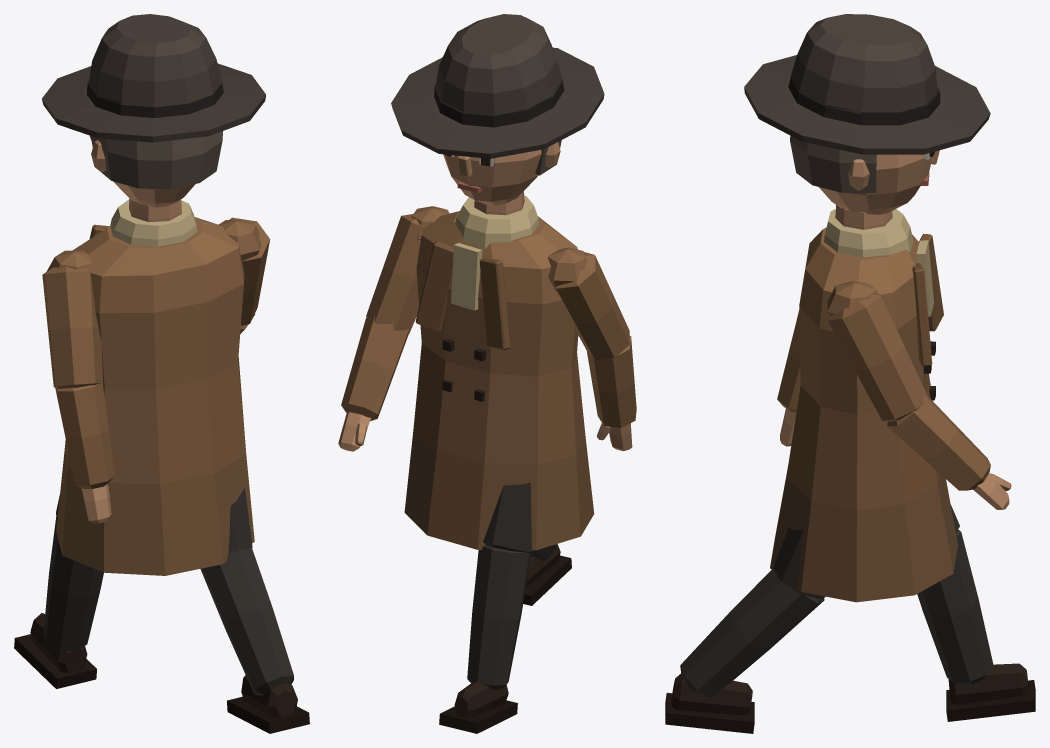
File: chr_uncle_w1.glb
The picture shows the model from 3 angles, left to right: view 1: azimuth 30°, elevation 25°; view 2: azimuth 150°, elevation 25°; view 3: azimuth 270°, elevation 25°; orthographic projection. The views are drawn at different scales.
Visible parts, largest first — view 1: chr_uncle_w1; view 2: chr_uncle_w1; view 3: chr_uncle_w1.
Part boxes in pixels (<box>): chr_uncle_w1: <box>14,14,309,733</box>; chr_uncle_w1: <box>338,14,636,733</box>; chr_uncle_w1: <box>665,14,1035,733</box>.
Bounding box in the file's own units: 0.6293 × 1.73 × 0.8226.
